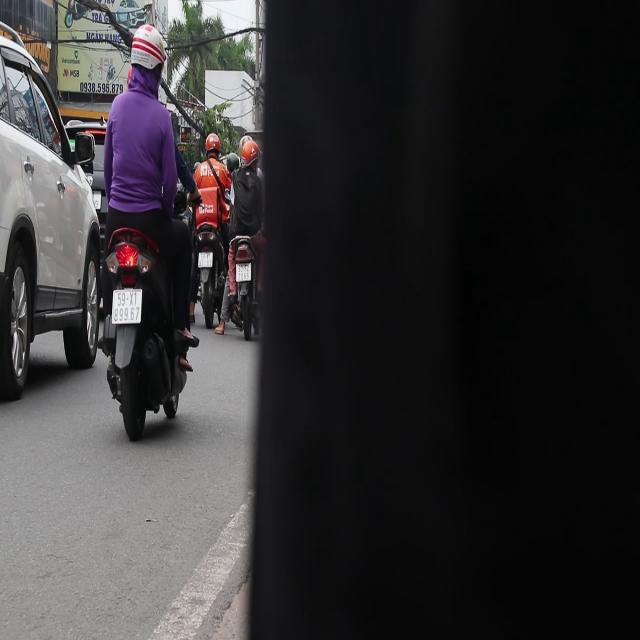motorbike: (98, 223, 189, 438), (185, 195, 231, 335), (224, 235, 265, 341)
truck: (1, 9, 105, 397)
